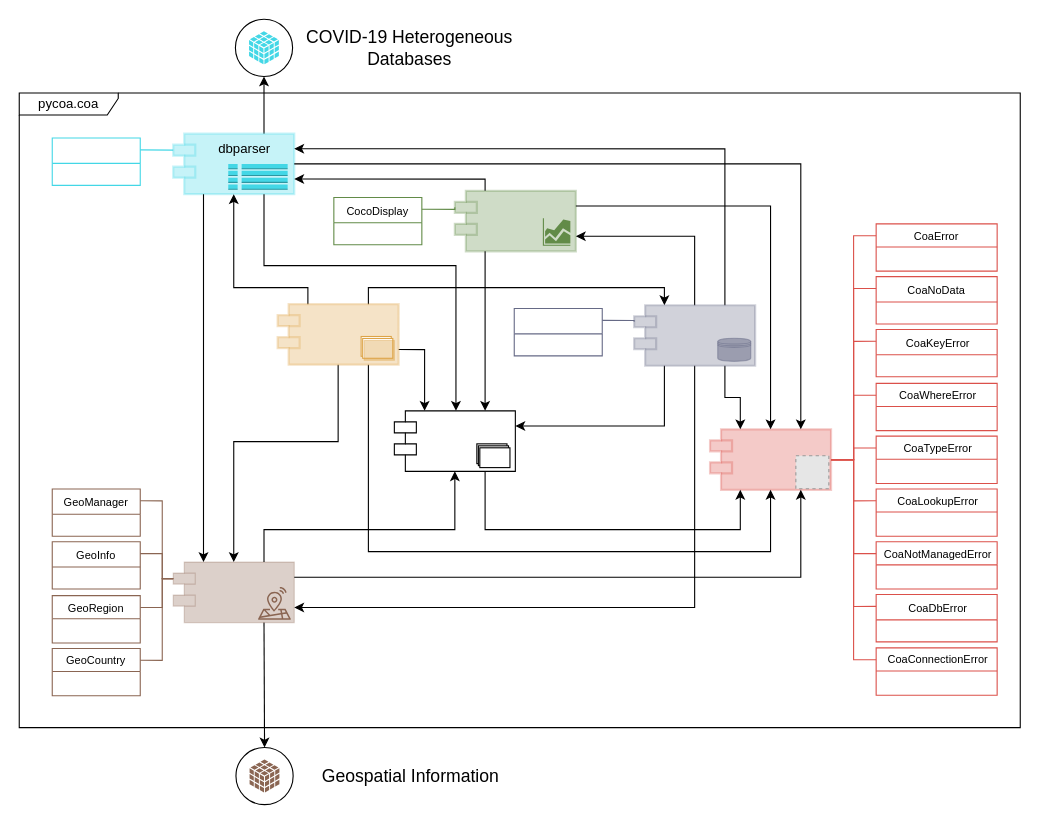
The diagram is 1040 pixels wide and 824 high, and some of its shapes have lost their labels. Grey dashed boxes stand in for pictures. Here are the shapes that lost their labels. From the top down, the box of each, then its label:
(51, 137, 140, 185): DBInfo
(453, 189, 576, 252): display
(276, 302, 399, 365): front
(513, 307, 602, 356): DataBase
(632, 304, 756, 366): covid19
(393, 410, 515, 471): tools
(708, 428, 832, 490): error
(172, 561, 294, 623): geo
